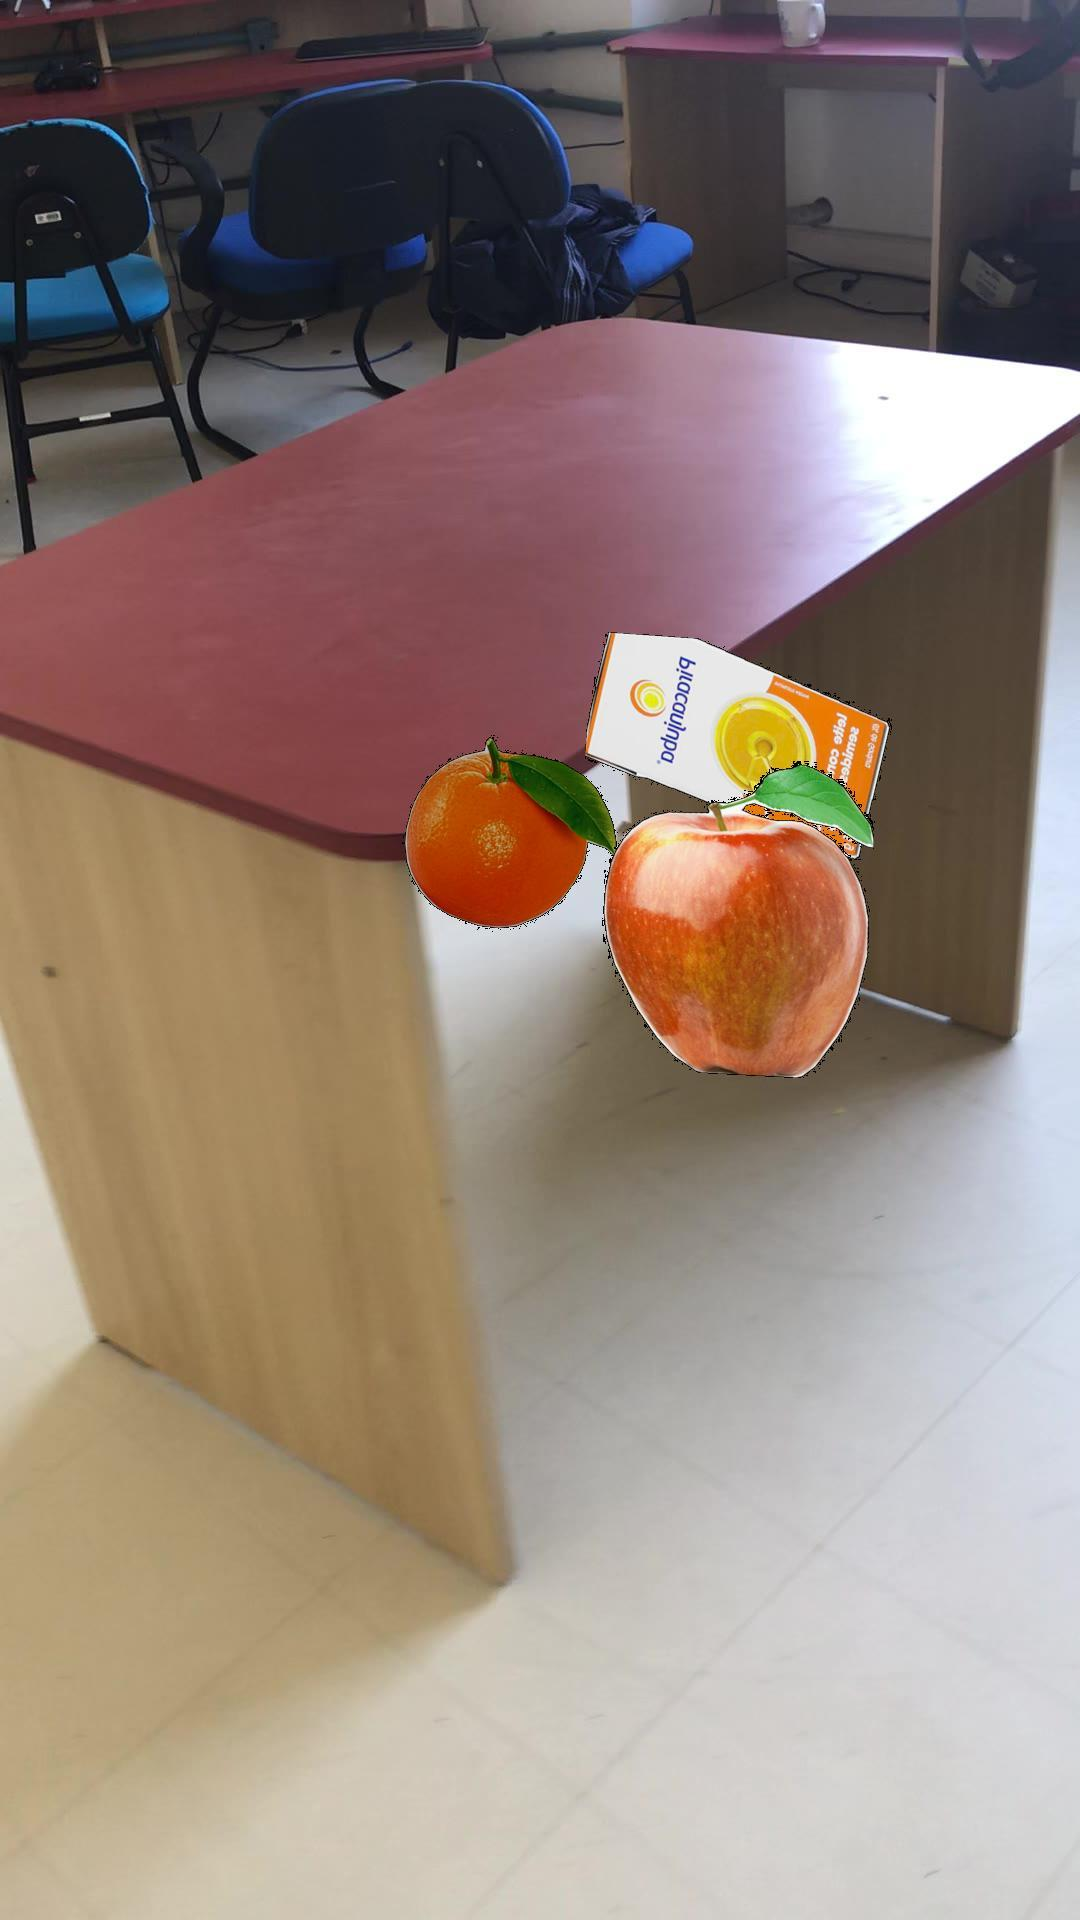orange: (401, 736, 616, 927)
